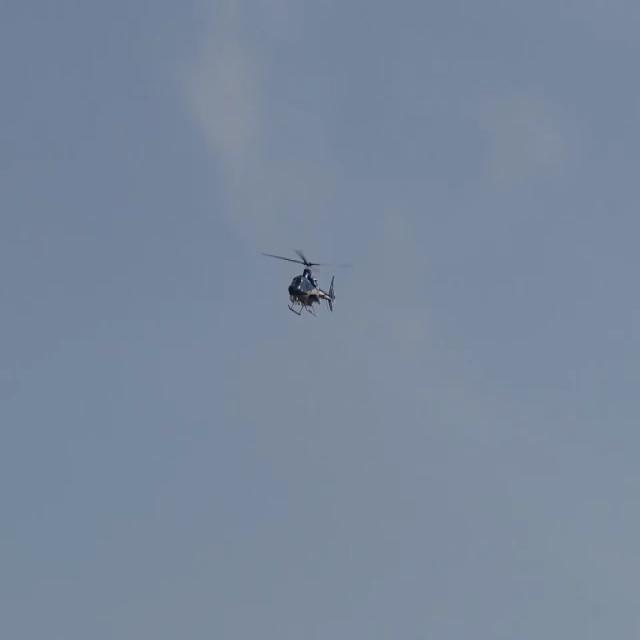Helicopter: (238, 231, 352, 332)
